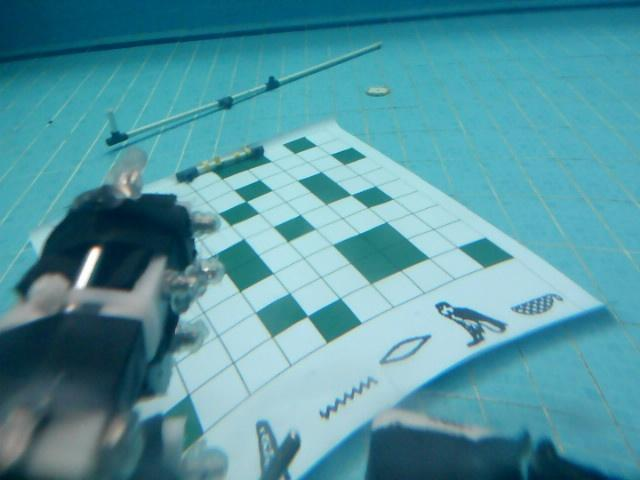Basket: (510, 290, 564, 318)
Mouth: (378, 333, 432, 365)
Owl: (434, 299, 509, 349)
Water: (320, 374, 377, 421)
